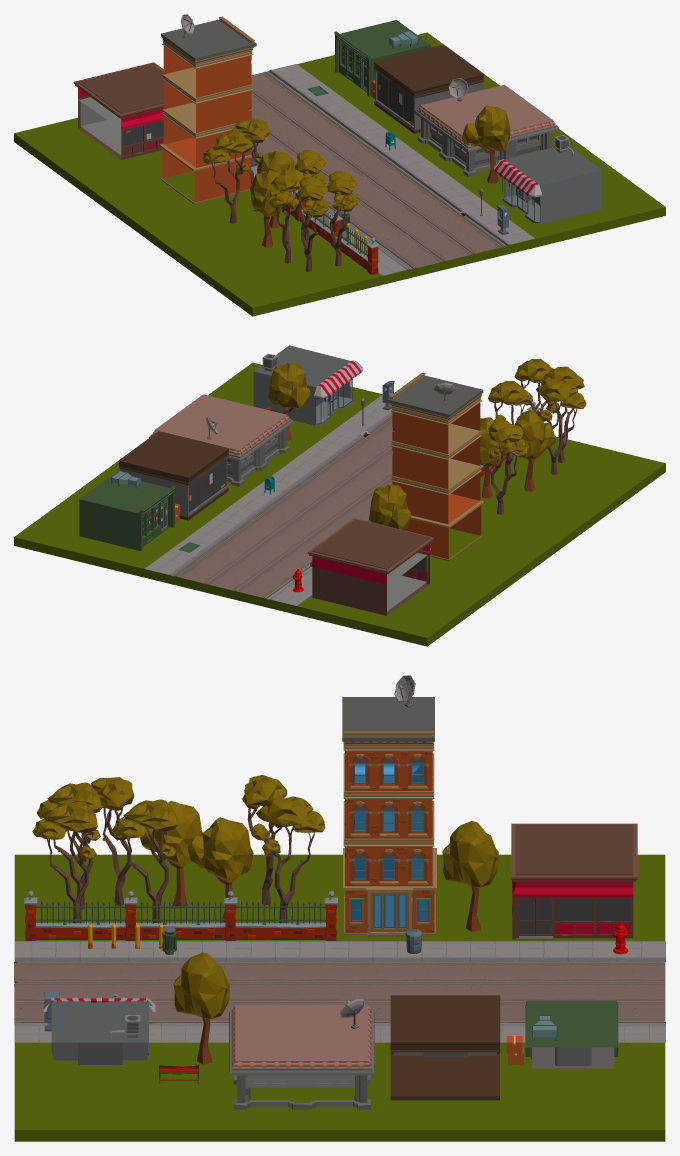
Rendered from House Area 2.fbx.
3 views of the same model, one above another, from view 1: azimuth 30°, elevation 25°; view 2: azimuth 150°, elevation 25°; view 3: azimuth 270°, elevation 25° (orthographic). The views are drawn at different scales.
Visible parts, largest first — view 1: Plane.002, SM_Env_Path_Straight_01.001, SM_Bld_Apartment_03.002, SM_Env_Sidewalk_Straight_01.149, SM_Bld_OfficeOld_Small_Roof_01, SM_Prop_Roof_Aircon_01, SM_Bld_Shop_Corner_01, SM_Bld_Shop_05_Glass, SM_Bld_Shop_02, SM_Env_Tree_03.005, SM_Env_Tree_02.022, SM_Env_Tree_02.045 (+9 smaller); view 2: Plane.002, SM_Env_Path_Straight_01.001, SM_Bld_Apartment_03.002, SM_Bld_Shop_Corner_01, SM_Env_Sidewalk_Straight_01.149, SM_Bld_OfficeOld_Small_Roof_01, SM_Bld_Shop_05_Glass, SM_Bld_Shop_02, SM_Prop_Roof_Aircon_01, SM_Env_Tree_03.005, SM_Env_Tree_02.045, SM_Env_Tree_02.022 (+6 smaller); view 3: Plane.002, SM_Env_Path_Straight_01.001, SM_Bld_Apartment_03.002, SM_Env_Sidewalk_Straight_01.149, SM_Bld_OfficeOld_Small_Roof_01, SM_Bld_Shop_Corner_01, SM_Bld_Shop_05_Glass, SM_Prop_Roof_Aircon_01, SM_Bld_Shop_02, SM_Env_Tree_03.005, SM_Env_Tree_03.015, SM_Env_Tree_03.003 (+11 smaller).
Part boxes in pixels (x1,y1,x2,y2): Plane.002: [14, 32, 665, 316]; SM_Env_Path_Straight_01.001: [251, 71, 503, 269]; SM_Bld_Apartment_03.002: [159, 16, 256, 204]; SM_Env_Sidewalk_Straight_01.149: [251, 64, 534, 275]; SM_Bld_OfficeOld_Small_Roof_01: [414, 84, 559, 176]; SM_Prop_Roof_Aircon_01: [493, 135, 601, 224]; SM_Bld_Shop_Corner_01: [73, 62, 163, 159]; SM_Bld_Shop_05_Glass: [373, 45, 484, 133]; SM_Bld_Shop_02: [334, 20, 430, 96]; SM_Env_Tree_03.005: [461, 105, 510, 183]; SM_Env_Tree_02.022: [203, 130, 253, 223]; SM_Env_Tree_02.045: [268, 169, 305, 263]; Plane.002: [14, 362, 665, 646]; SM_Env_Path_Straight_01.001: [176, 418, 481, 598]; SM_Bld_Apartment_03.002: [387, 372, 483, 560]; SM_Bld_Shop_Corner_01: [307, 518, 434, 615]; SM_Env_Sidewalk_Straight_01.149: [145, 380, 394, 605]; SM_Bld_OfficeOld_Small_Roof_01: [149, 394, 293, 486]; SM_Bld_Shop_05_Glass: [118, 431, 228, 520]; SM_Bld_Shop_02: [79, 474, 175, 550]; SM_Prop_Roof_Aircon_01: [253, 345, 362, 425]; SM_Env_Tree_03.005: [268, 363, 310, 441]; SM_Env_Tree_02.045: [536, 379, 586, 474]; SM_Env_Tree_02.022: [488, 420, 528, 514]; Plane.002: [14, 854, 665, 1141]; SM_Env_Path_Straight_01.001: [14, 961, 664, 1024]; SM_Bld_Apartment_03.002: [342, 697, 436, 936]; SM_Env_Sidewalk_Straight_01.149: [15, 922, 665, 1042]; SM_Bld_OfficeOld_Small_Roof_01: [229, 1004, 374, 1109]; SM_Bld_Shop_Corner_01: [511, 823, 637, 940]; SM_Bld_Shop_05_Glass: [390, 995, 500, 1100]; SM_Prop_Roof_Aircon_01: [43, 997, 155, 1064]; SM_Bld_Shop_02: [525, 1000, 618, 1068]; SM_Env_Tree_03.005: [173, 952, 229, 1064]; SM_Env_Tree_03.015: [442, 821, 498, 931]; SM_Env_Tree_03.003: [187, 817, 253, 922].
Bounding box in the file's own units: 10000 × 4097 × 10019.
